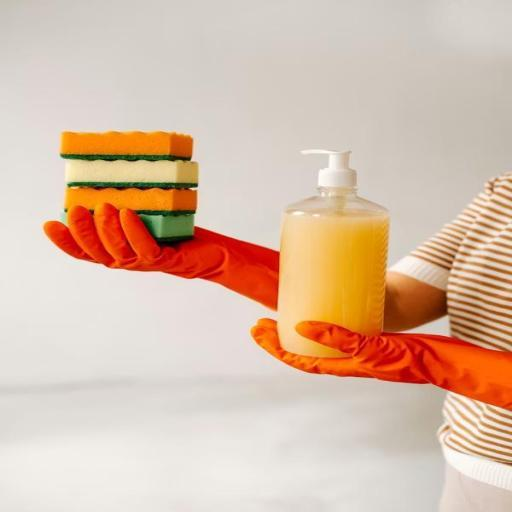bottle: (258, 140, 400, 370)
